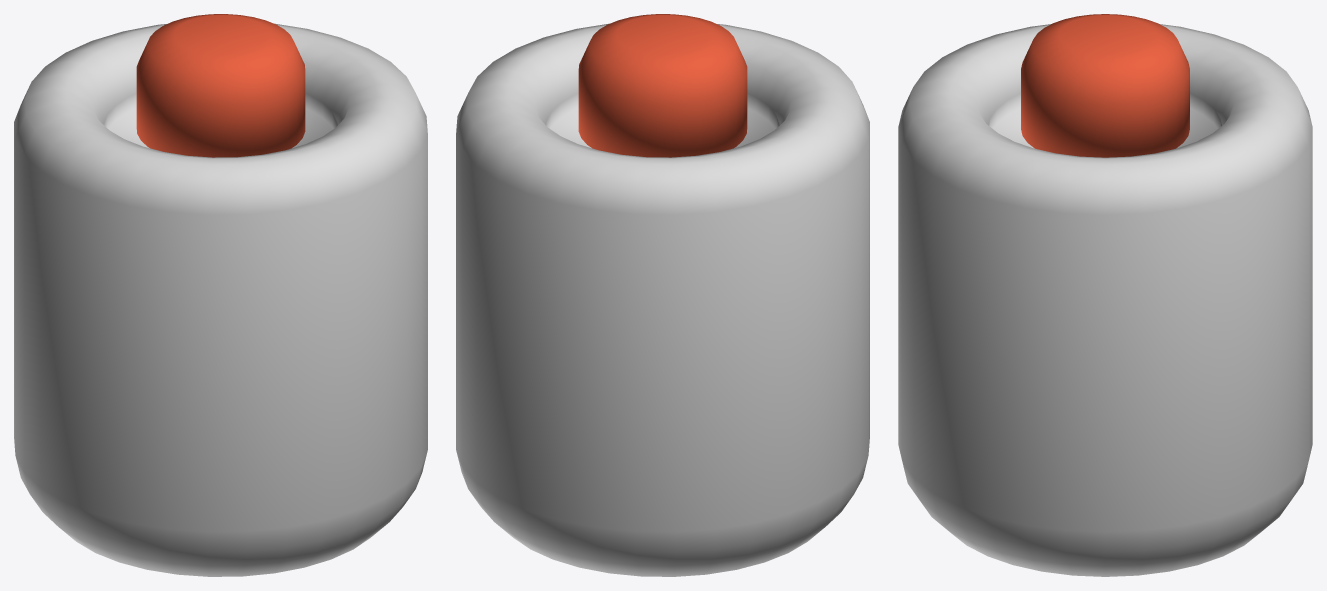
File: Trigger.glb
The picture shows the model from 3 angles, left to right: view 1: azimuth 30°, elevation 25°; view 2: azimuth 150°, elevation 25°; view 3: azimuth 270°, elevation 25°; orthographic projection.
Parts seen in each view (by area): view 1: Trigger, Trigger.001; view 2: Trigger, Trigger.001; view 3: Trigger, Trigger.001.
Boxes of the visible parts, x1,y1,x2,y2 form: Trigger: (14, 23, 427, 576); Trigger.001: (136, 14, 305, 157); Trigger: (456, 23, 869, 576); Trigger.001: (578, 14, 747, 157); Trigger: (898, 24, 1312, 576); Trigger.001: (1021, 14, 1189, 157).
Bounding box in the file's own units: 0.5368 × 0.6737 × 0.5368.
